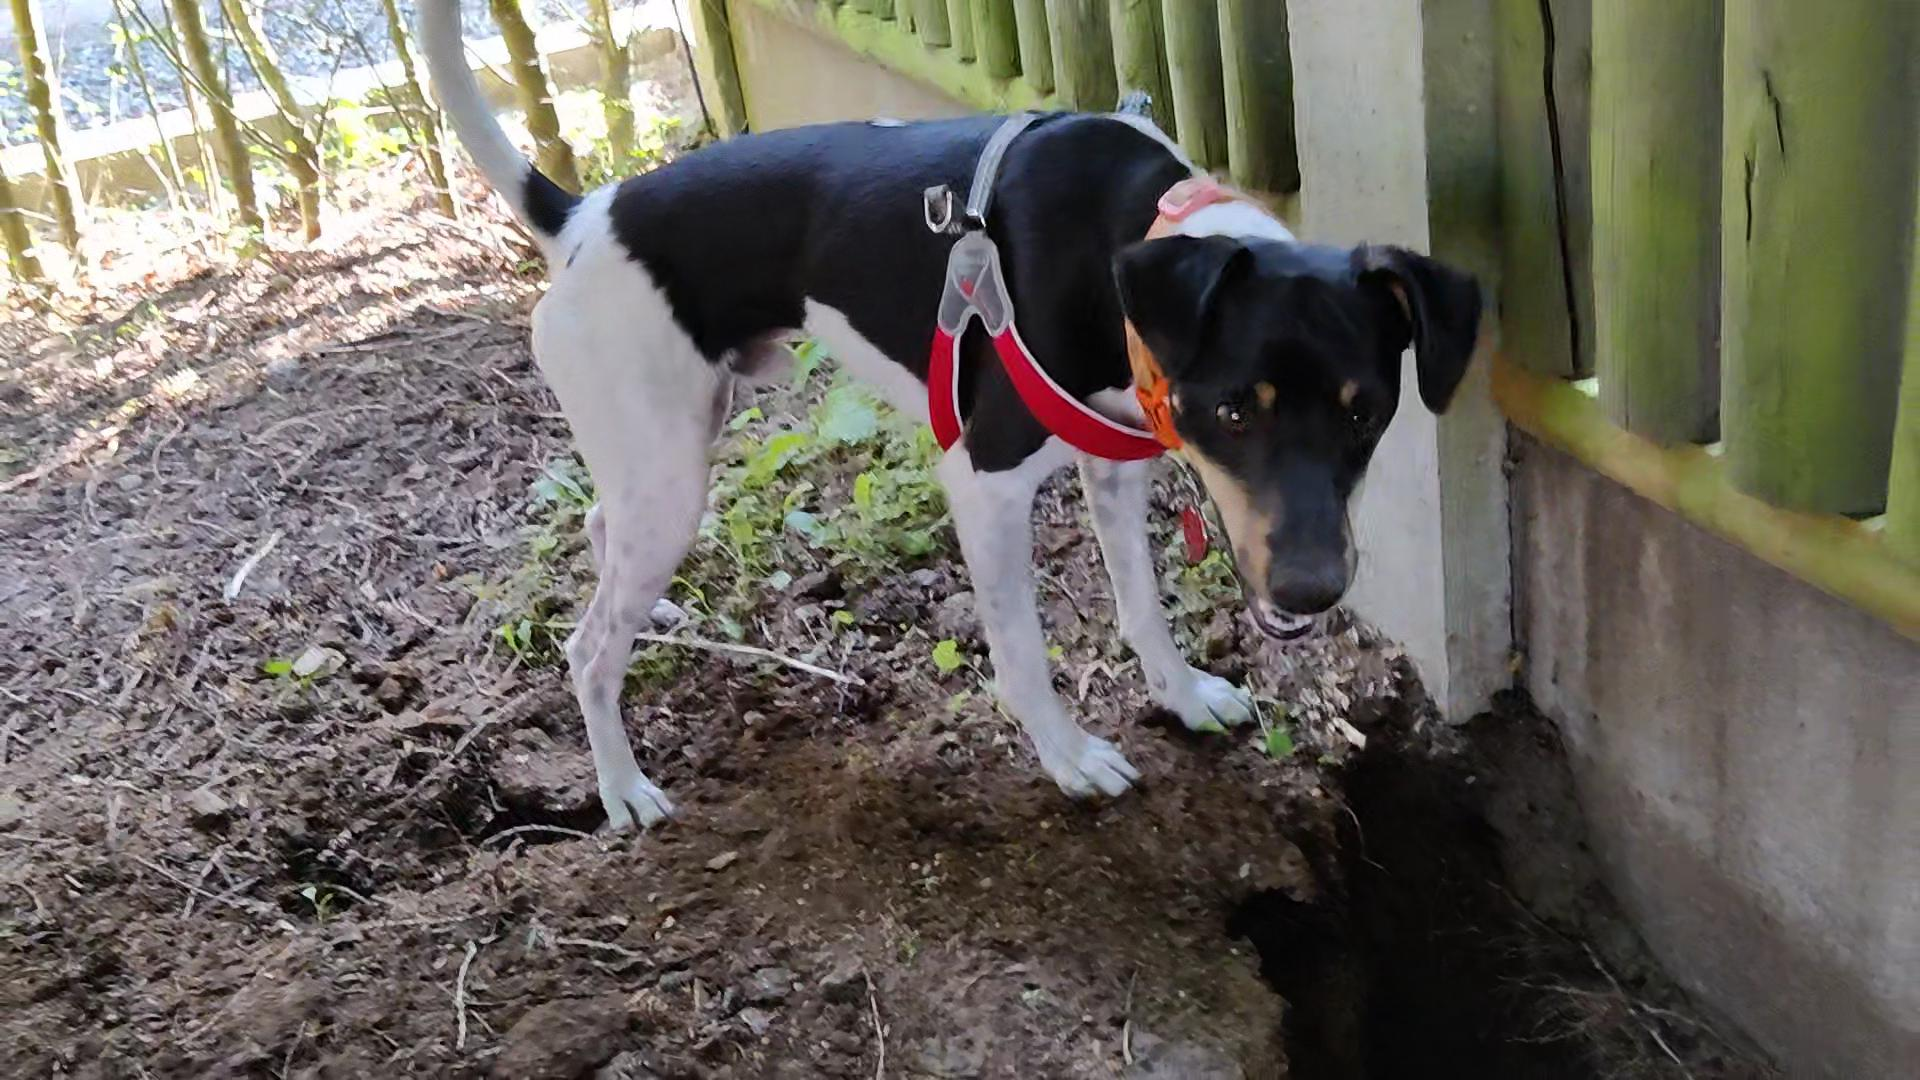Dog: (405, 0, 1497, 852)
